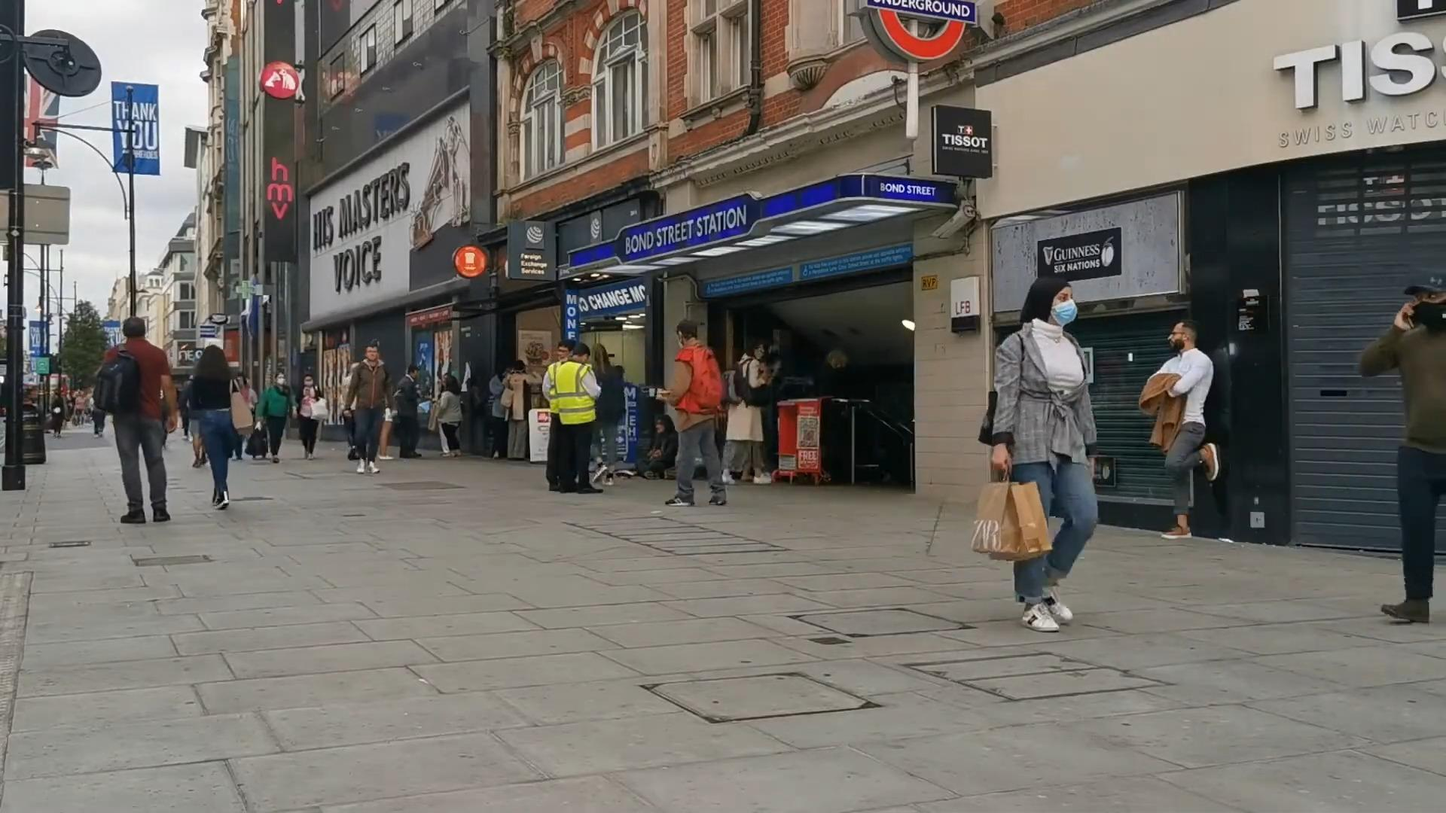no-helmet: (1021, 277, 1077, 326), (1404, 270, 1446, 328), (193, 344, 232, 382), (1167, 320, 1199, 353), (676, 319, 698, 349), (122, 315, 146, 338), (556, 339, 575, 363), (572, 343, 590, 363), (365, 344, 379, 362), (274, 372, 285, 386), (303, 373, 314, 387)
